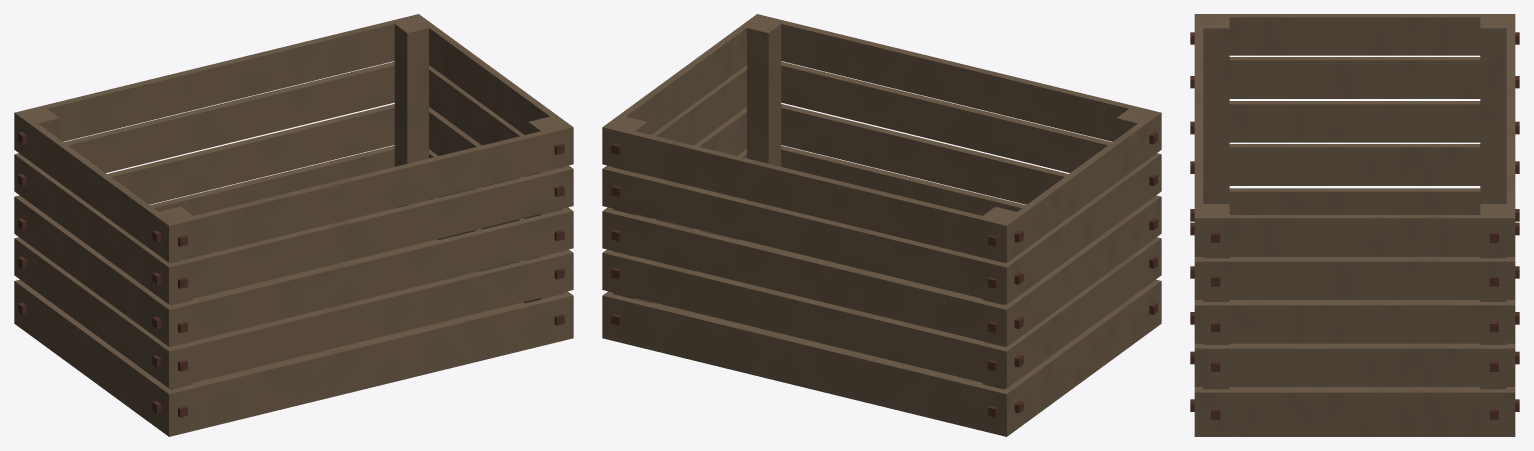
The model's file is BoxOpen3.fbx.
The picture shows the model from 3 angles, left to right: view 1: azimuth 30°, elevation 25°; view 2: azimuth 150°, elevation 25°; view 3: azimuth 270°, elevation 25°; orthographic projection. The views are drawn at different scales.
Parts seen in each view (by area): view 1: Cube.021; view 2: Cube.021; view 3: Cube.021.
Boxes of the visible parts, x1,y1,x2,y2 form: Cube.021: (14, 14, 573, 436); Cube.021: (602, 14, 1161, 436); Cube.021: (1190, 14, 1519, 436).
Size of the model in its own units: 123 by 60.03 by 81.98.
